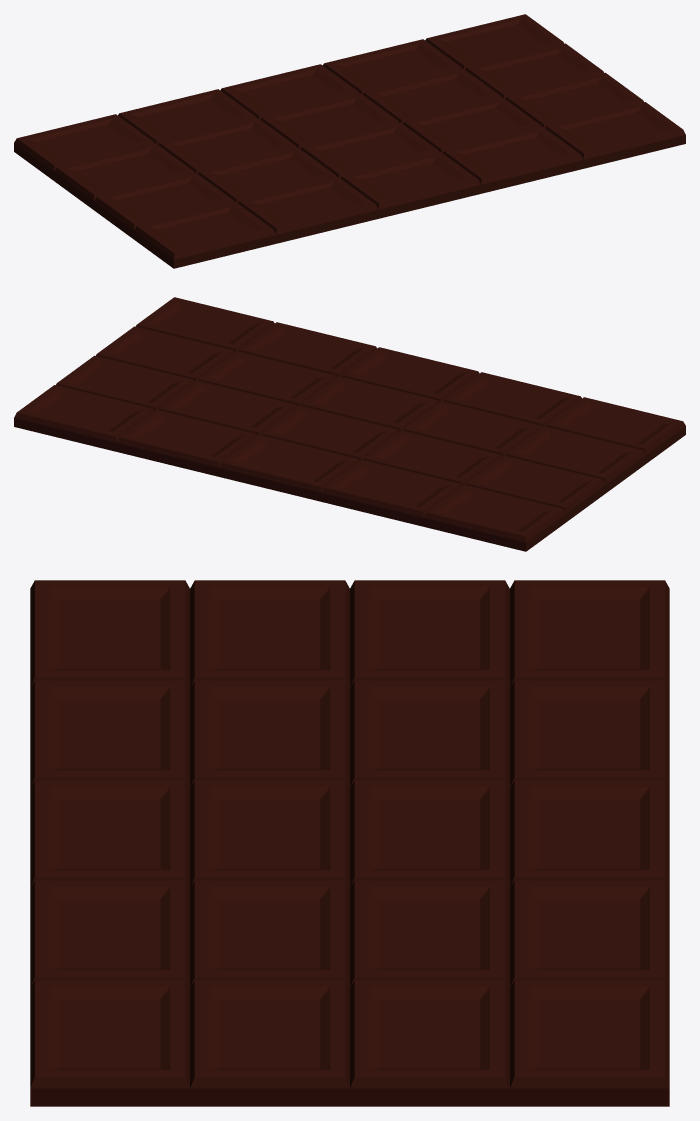
The model's file is choco_1.fbx.
3 renders of one model, top to bottom at view 1: azimuth 30°, elevation 25°; view 2: azimuth 150°, elevation 25°; view 3: azimuth 270°, elevation 25°, orthographic. The views are drawn at different scales.
Visible parts, largest first — view 1: 平面.006; view 2: 平面.006; view 3: 平面.006.
Part boxes in pixels (x1,y1,x2,y2): 平面.006: [14, 14, 685, 268]; 平面.006: [14, 297, 685, 551]; 平面.006: [30, 580, 669, 1106].
Bounding box in the file's own units: 43.06 × 1.12 × 23.29.
